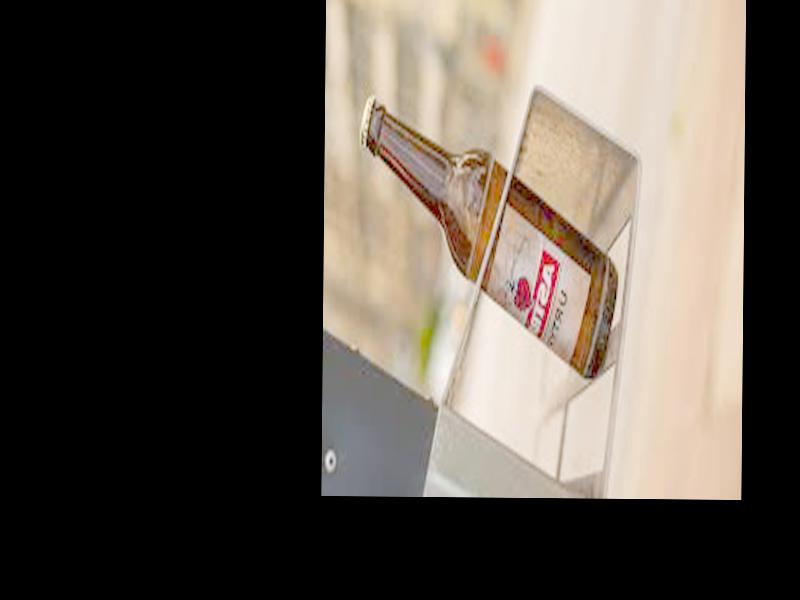Beer: (356, 92, 620, 382)
